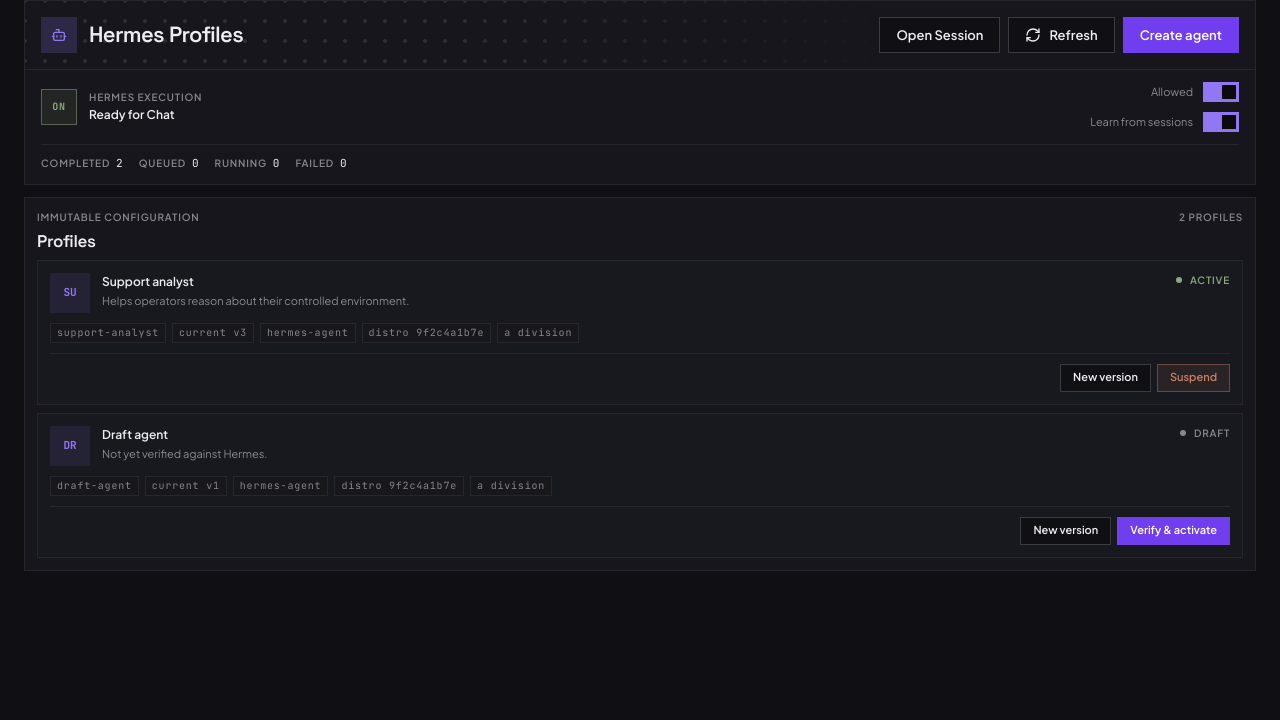
agents › surfaces a failed Refresh instead of leaving stale profiles on screen
The image size is (1280, 720).
Check: the heading "Hermes Profiles" is shown, box [89,22,243,48]
Click the button "Refresh".
click(1062, 35)  # box [1008,17,1115,53]
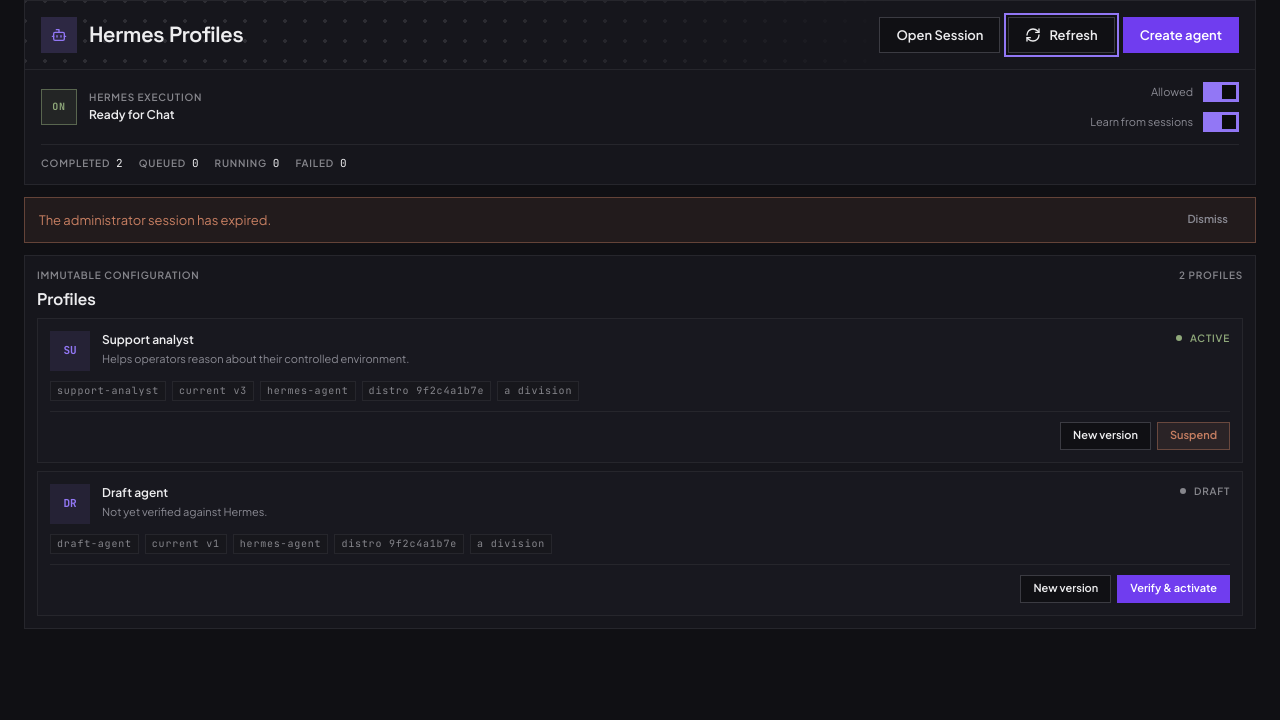
Check: the text "The administrator session has expired." is shown, box [39,210,271,230]
